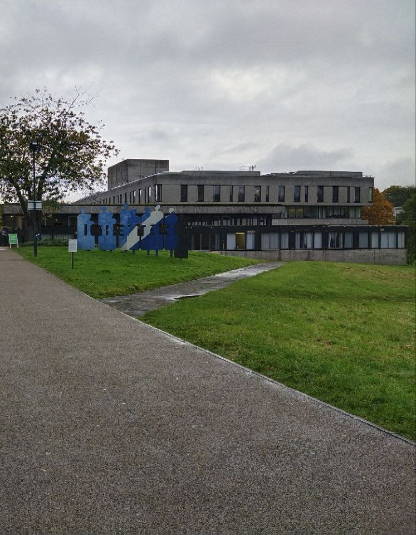tree: (1, 94, 115, 219)
